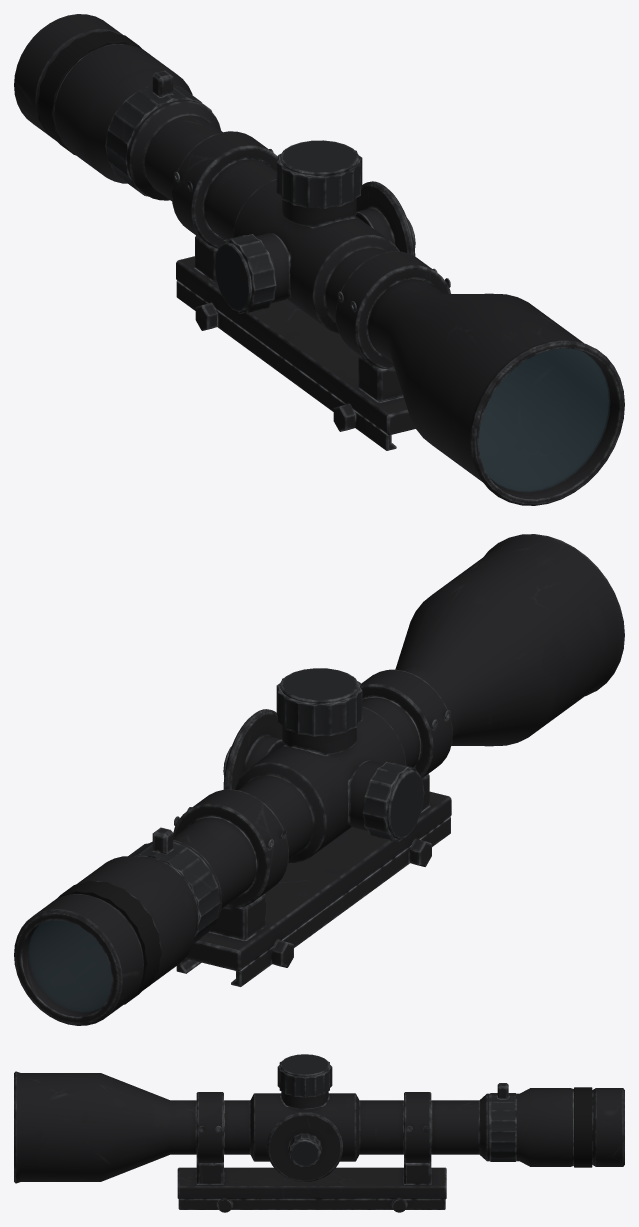
Rendered from Optic_Scope8x.fbx.
The picture shows the model from 3 angles, top to bottom: view 1: azimuth 30°, elevation 25°; view 2: azimuth 150°, elevation 25°; view 3: azimuth 270°, elevation 25°; orthographic projection. The views are drawn at different scales.
Visible parts, largest first — view 1: Body, Lens_Front; view 2: Body, Lens_Rear; view 3: Body.
Boxes of the visible parts, x1=… form: Body: x1=14, y1=14, x2=624, y2=505; Lens_Front: x1=478, y1=348, x2=609, y2=491; Body: x1=14, y1=534, x2=624, y2=1025; Lens_Rear: x1=28, y1=920, x2=111, y2=1012; Body: x1=14, y1=1054, x2=624, y2=1212.
Size of the model in its own units: 0.0694 by 0.0839 by 0.336.
